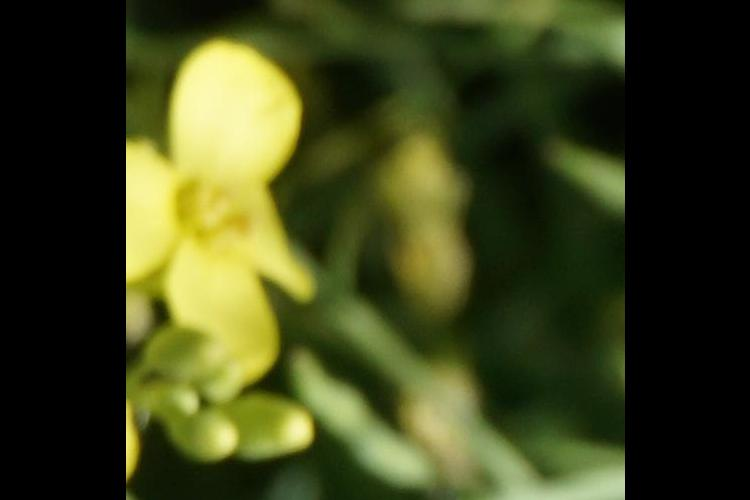bud: (219, 379, 318, 483), (159, 403, 244, 475), (139, 342, 234, 386), (143, 387, 202, 428)
yellow: (140, 78, 326, 380)
